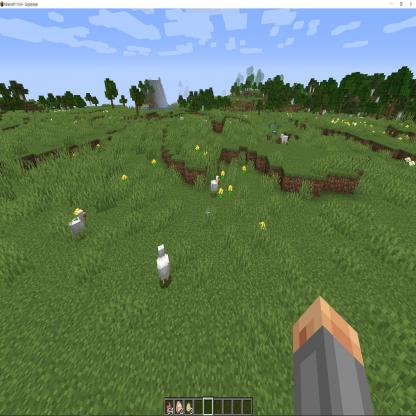minecraft-pigs: (155, 239, 172, 290), (68, 207, 89, 244), (210, 172, 221, 199)
